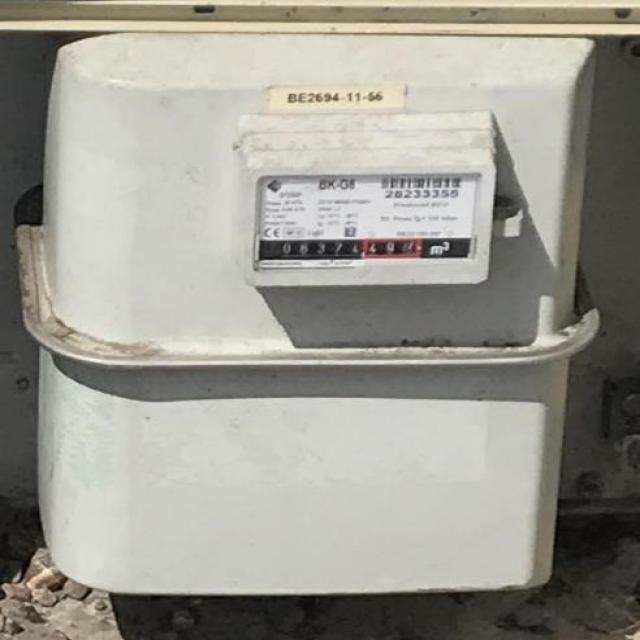gaz_meter: (256, 174, 480, 265)
indication: (271, 232, 422, 261)
